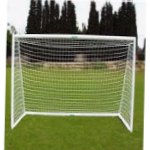goals: (10, 32, 136, 134)
